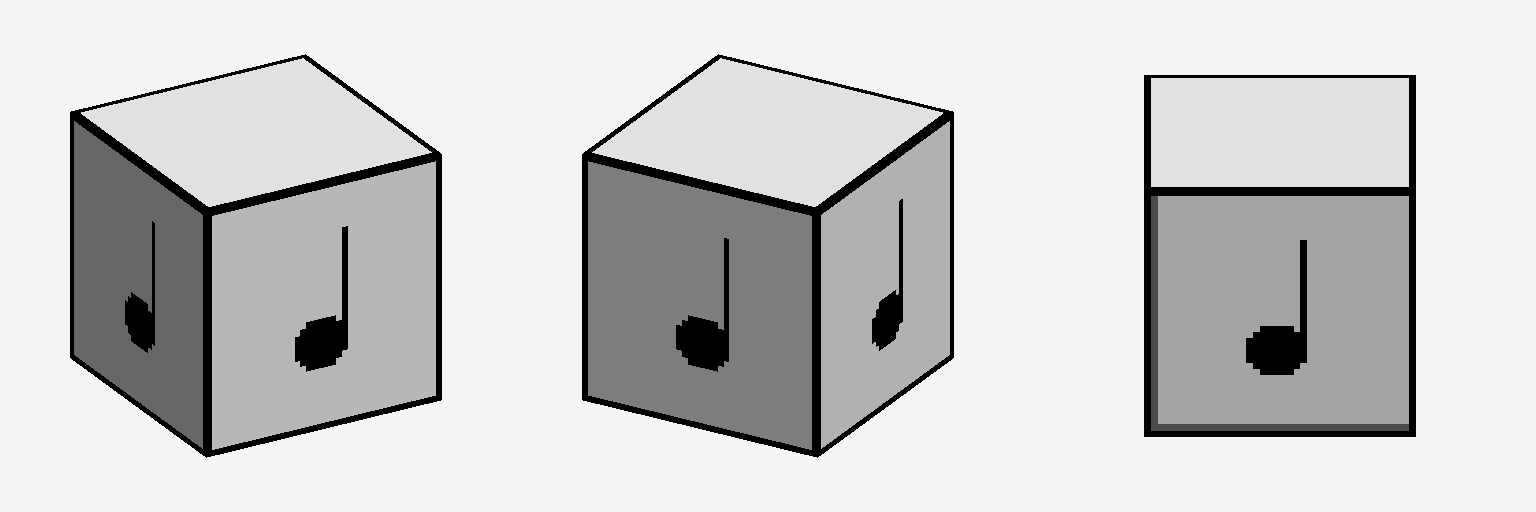
3 renders of one model, left to right at view 1: azimuth 30°, elevation 25°; view 2: azimuth 150°, elevation 25°; view 3: azimuth 270°, elevation 25°, orthographic.
Visible parts, largest first — view 1: object 1; view 2: object 1; view 3: object 1.
Boxes of the visible parts, box(x1,y1,x2,y2) form: object 1: box(70, 54, 441, 457); object 1: box(582, 54, 953, 457); object 1: box(1144, 75, 1415, 436).
Size of the model in its own units: 4 by 4 by 4.
Materials: 1 (1 with a texture image).